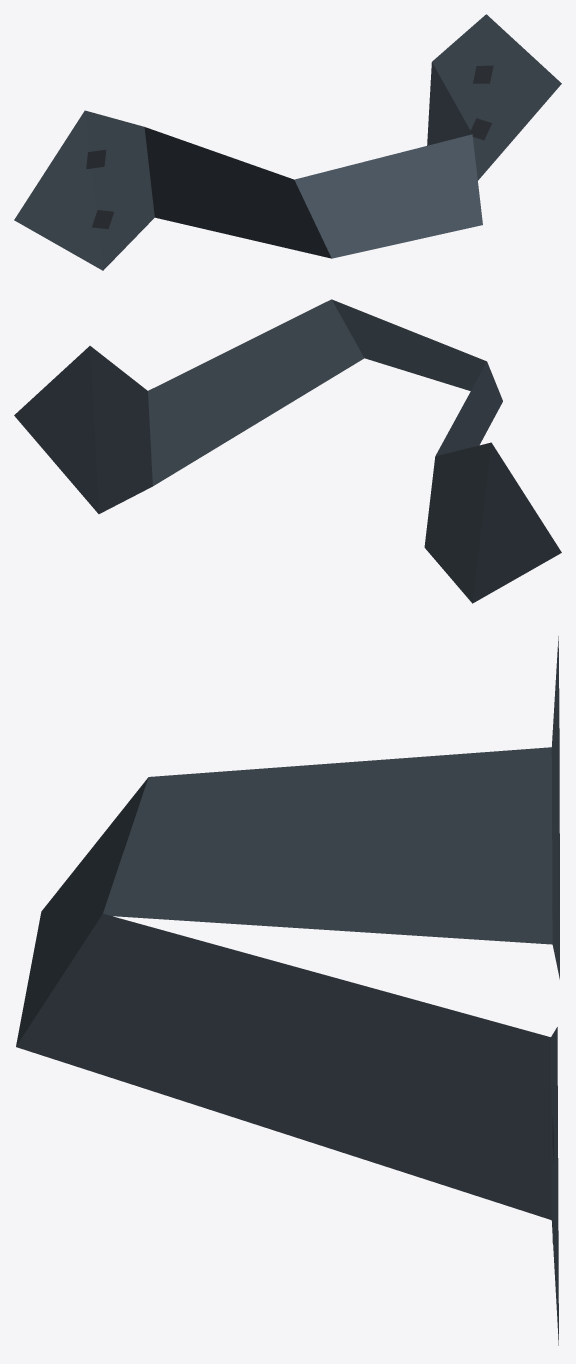
File: Shackless_01.fbx
3 renders of one model, top to bottom at view 1: azimuth 30°, elevation 25°; view 2: azimuth 150°, elevation 25°; view 3: azimuth 270°, elevation 25°, orthographic. The views are drawn at different scales.
Visible parts, largest first — view 1: Shackless_01; view 2: Shackless_01; view 3: Shackless_01.
Part boxes in pixels (x1,y1,x2,y2): Shackless_01: (14, 14, 561, 270); Shackless_01: (14, 299, 561, 603); Shackless_01: (16, 636, 559, 1345).
Size of the model in its own units: 11.62 by 3.4 by 5.
Materials: 1 (1 with a texture image).
